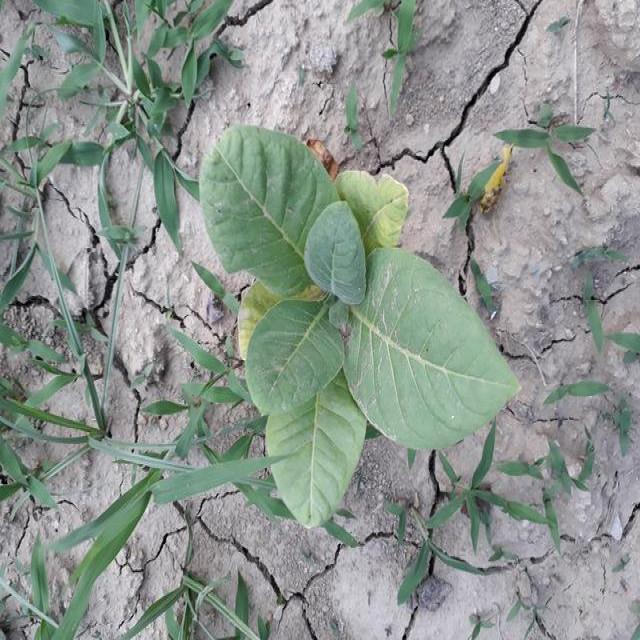crop: (207, 120, 519, 523)
